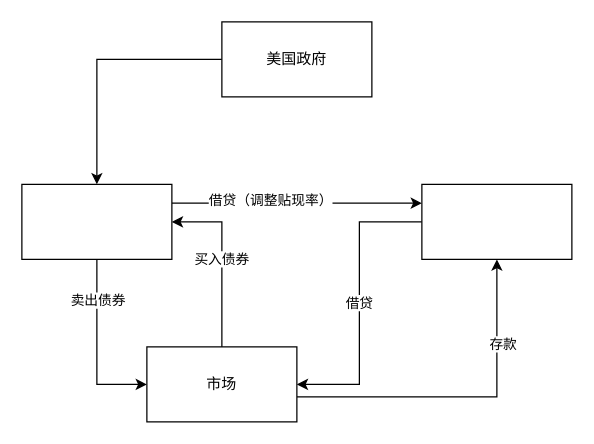
The diagram is 594 pixels wide and 444 high, and some of its shapes have lost their labels. The shapes that lost their labels are listed below. From the top down, each one's box as (x1, y1, x2, y2) in pixels, then its label:
(21, 183, 172, 259): 美联储
(421, 183, 572, 259): 商业银行
